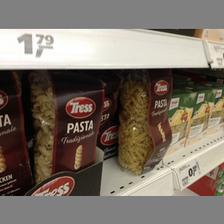Nudeln: (28, 70, 104, 182), (114, 69, 169, 174)
